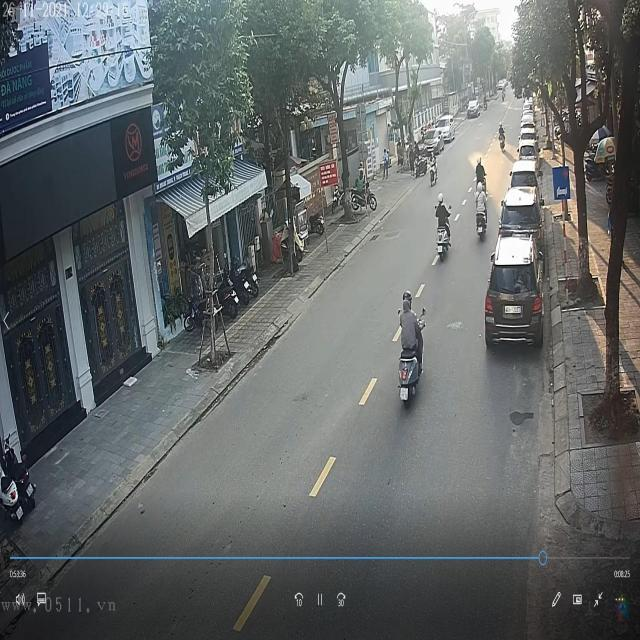car: (486, 231, 544, 348), (469, 98, 482, 118)
motorcycle: (398, 351, 421, 402), (436, 220, 452, 262), (477, 204, 488, 246)
